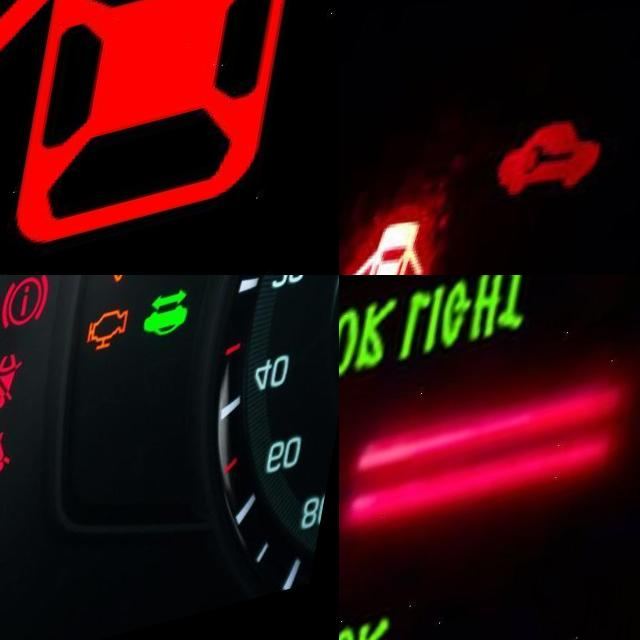Electronic Power Steering: (0, 575, 18, 629)
Seat Belt: (0, 365, 39, 426)
